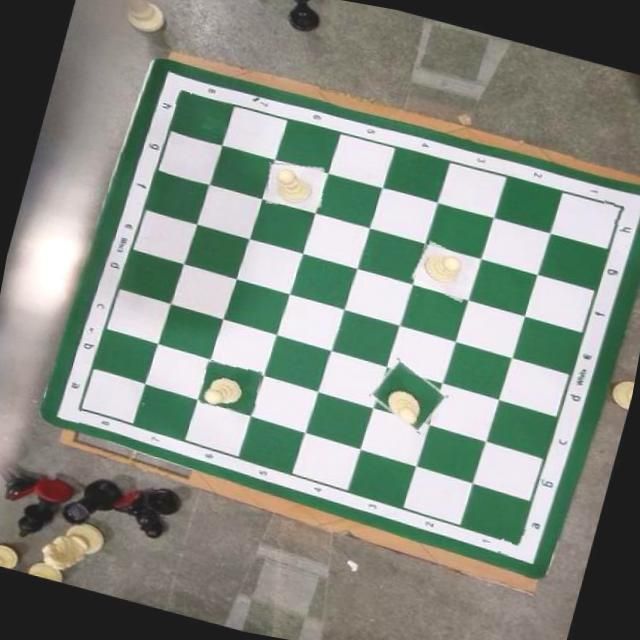chess-table-corners: (60, 390, 102, 426), (498, 522, 533, 560), (599, 191, 636, 226), (165, 76, 194, 106)
